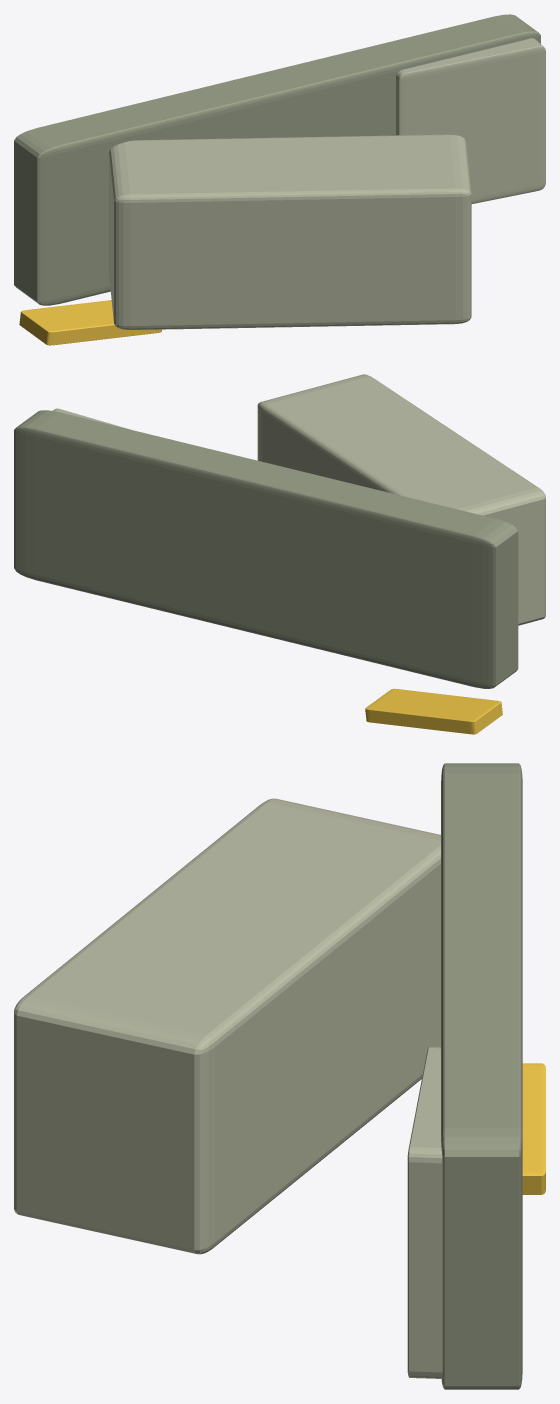
File: v-x01-vanguard-tactical-lod2.glb
3 views of the same model, one above another, from view 1: azimuth 30°, elevation 25°; view 2: azimuth 150°, elevation 25°; view 3: azimuth 270°, elevation 25° (orthographic). The views are drawn at different scales.
Parts seen in each view (by area): view 1: tactical_canister, strategic_lower, strategic_nose, strategic_jack_-1; view 2: strategic_lower, tactical_canister, strategic_jack_-1; view 3: tactical_canister, strategic_lower, strategic_nose, strategic_jack_-1.
Part boxes in pixels (left/top/right/bottom): tactical_canister: left=109, top=134, right=471, bottom=329; strategic_lower: left=14, top=14, right=540, bottom=305; strategic_nose: left=396, top=38, right=545, bottom=203; strategic_jack_-1: left=19, top=300, right=161, bottom=345; strategic_lower: left=14, top=410, right=518, bottom=688; tactical_canister: left=257, top=374, right=545, bottom=625; strategic_jack_-1: left=365, top=688, right=502, bottom=734; tactical_canister: left=14, top=798, right=440, bottom=1254; strategic_lower: left=441, top=763, right=522, bottom=1389; strategic_nose: left=407, top=1046, right=442, bottom=1378; strategic_jack_-1: left=522, top=1063, right=545, bottom=1194.
Size of what is drawn, in the model's own units: 9.52 by 3.87 by 5.48.
